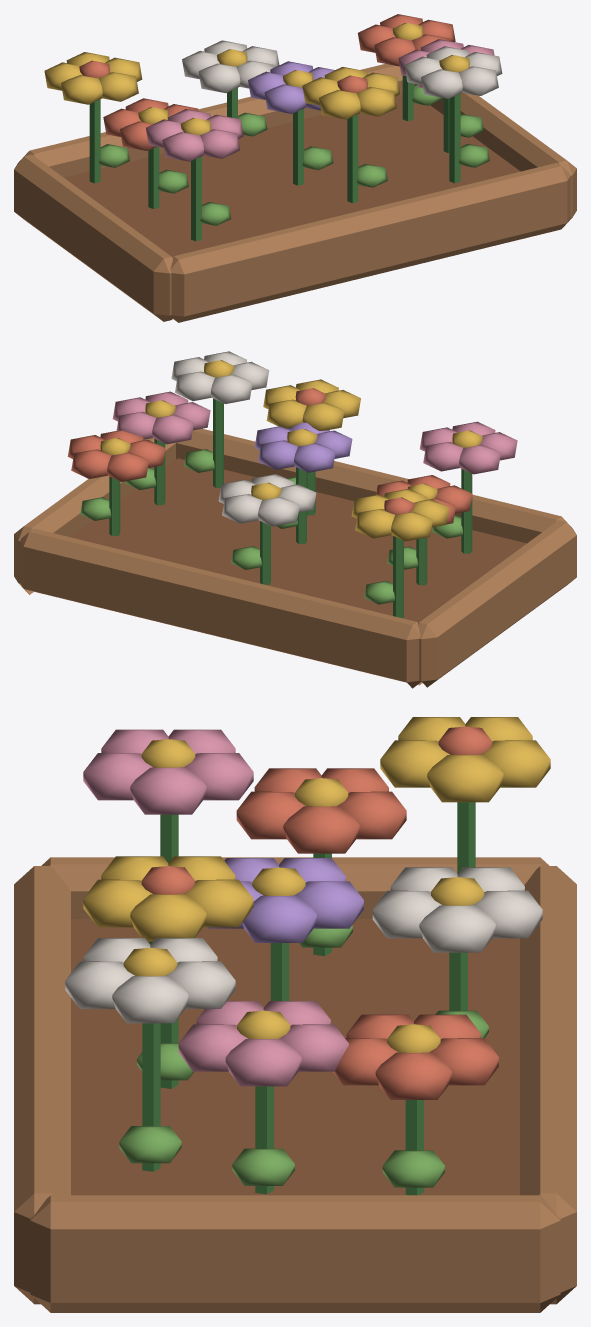
Rendered from ac_flowers.glb.
The picture shows the model from 3 angles, top to bottom: view 1: azimuth 30°, elevation 25°; view 2: azimuth 150°, elevation 25°; view 3: azimuth 270°, elevation 25°; orthographic projection. The views are drawn at different scales.
Visible parts, largest first — view 1: box; view 2: box; view 3: box.
Boxes of the visible parts, bbox=[...] form: box: bbox=[14, 14, 576, 322]; box: bbox=[14, 351, 576, 688]; box: bbox=[14, 717, 576, 1312].
Size of the model in its own units: 2.1 by 0.7953 by 1.38.
